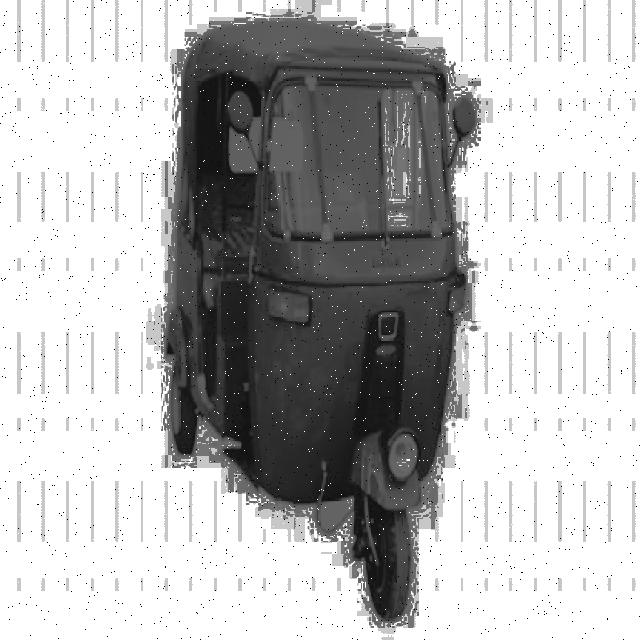Auto-Rickshaw: (163, 12, 477, 638)
